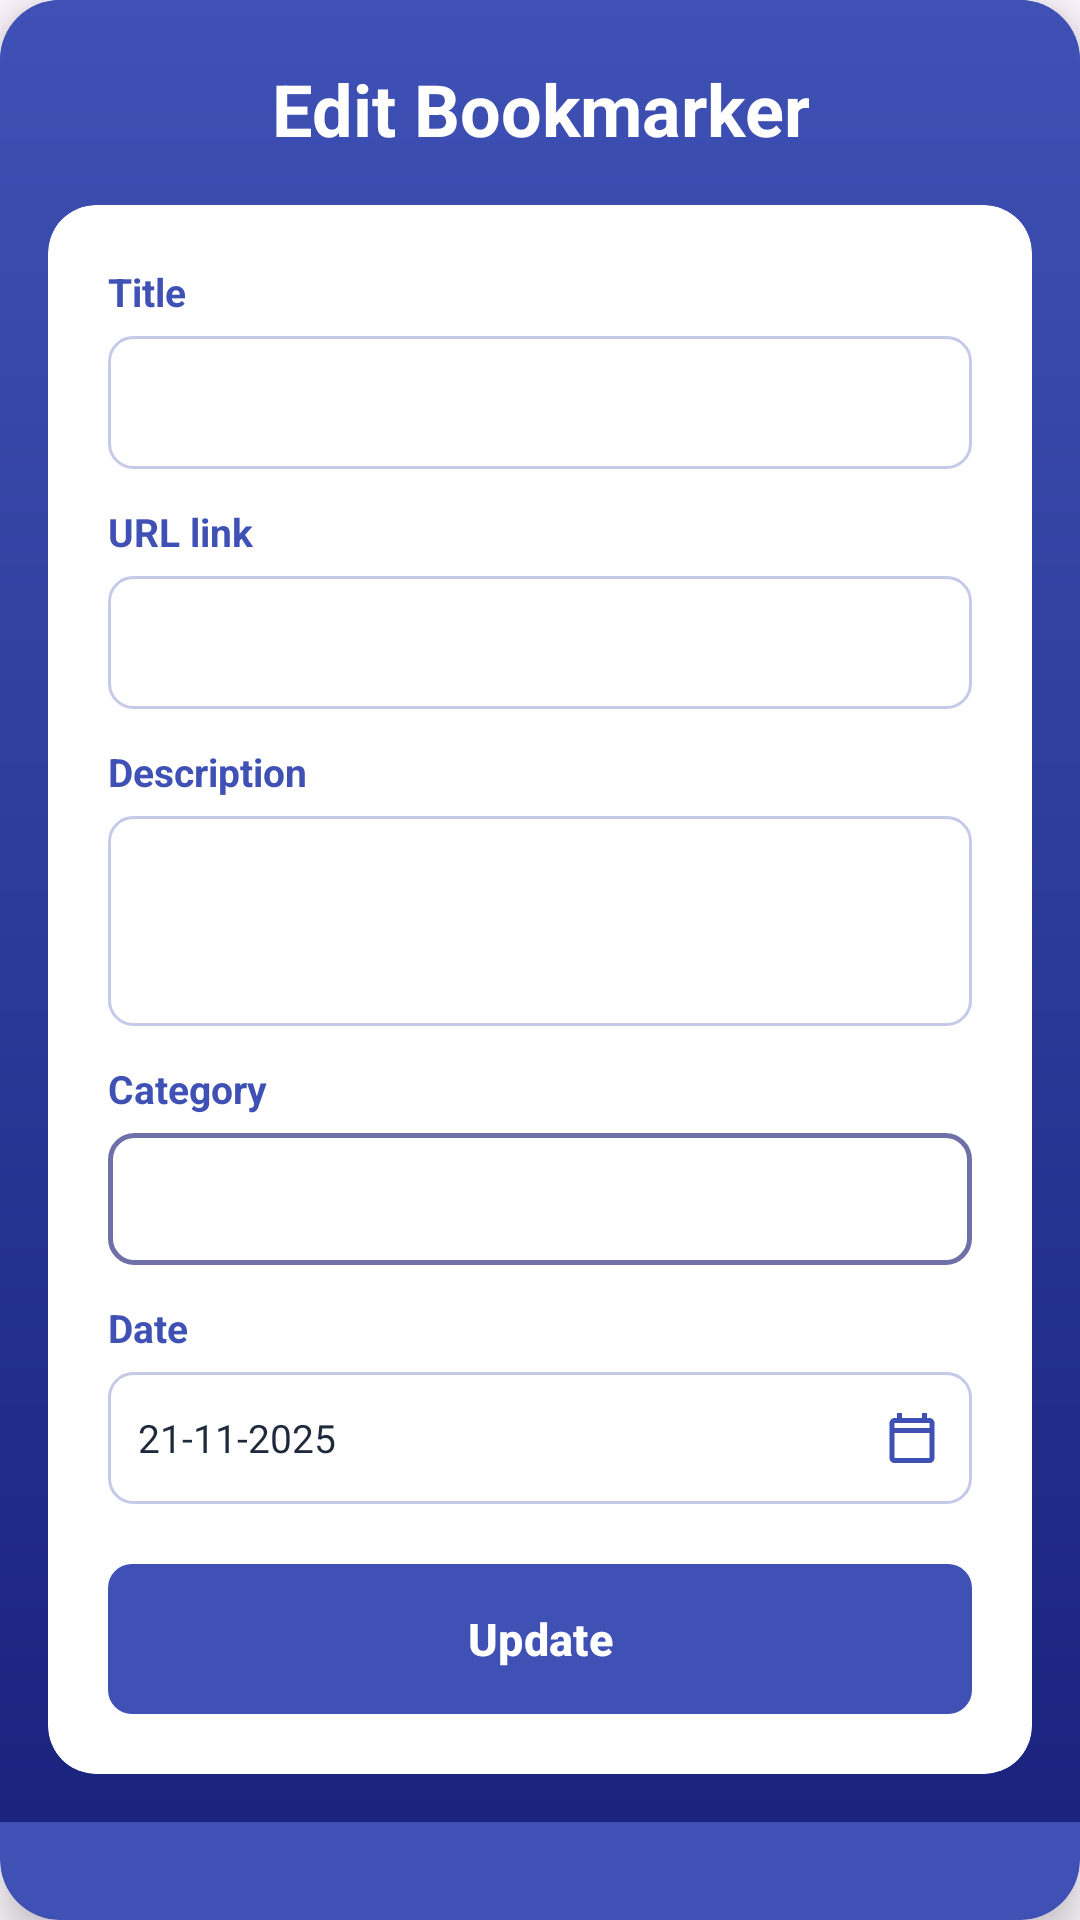

Screen size 1080×1920. Icon name, then its center in pixels as (x=x, y=y):
Select Date: (x=912, y=1438)
